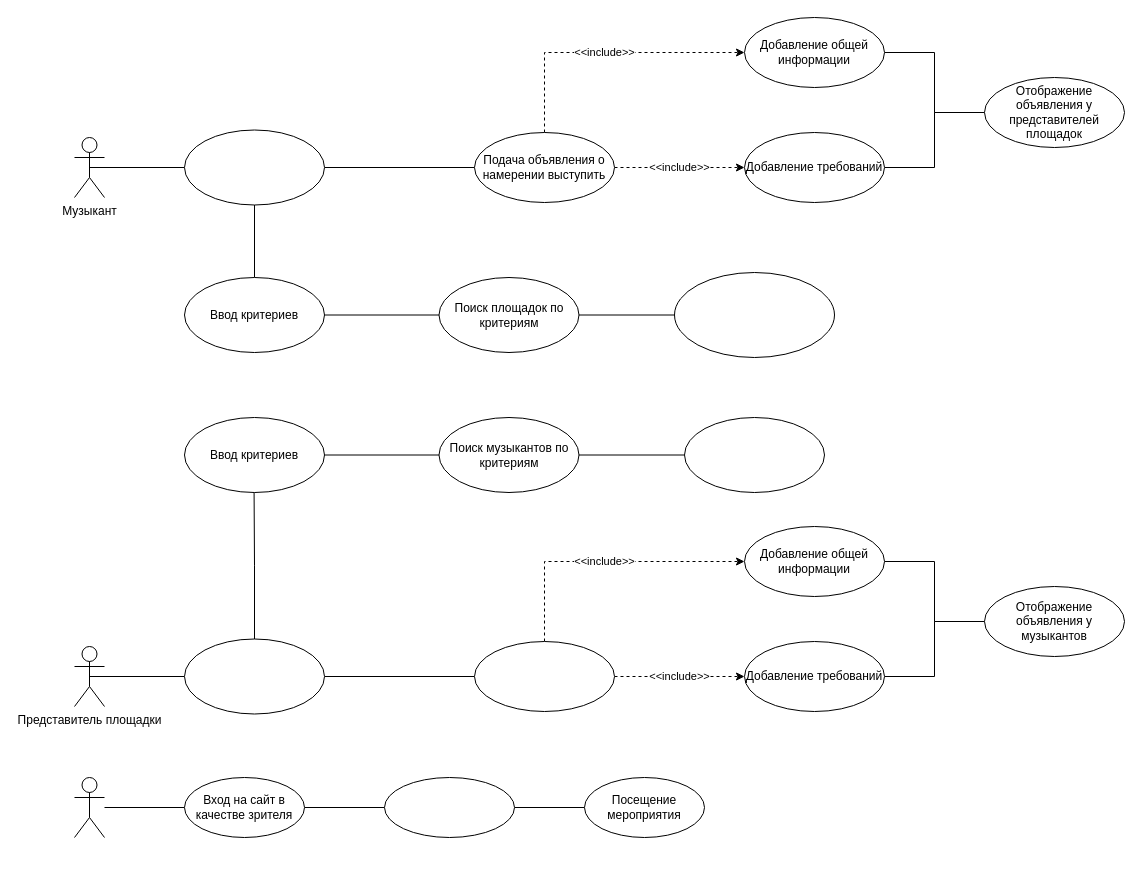
The diagram is 1142 pixels wide and 876 high, and some of its shapes have lost their labels. The box of each missing label's shape, as (x1, y1, x2, y2) in pixels:
Авторизация в качестве музыканта: (184, 129, 324, 205)
Авторизация в качестве представителя: (184, 638, 324, 714)
Зритель: (74, 776, 104, 838)
Переговоры о концерте с музыкантом: (684, 416, 824, 492)
Переговоры о концерте с представителем площадки: (674, 272, 834, 358)
Подача объявления о поиске музыкантов: (474, 640, 614, 712)
Поиск ближайших мероприятий по критериям: (384, 776, 514, 838)
